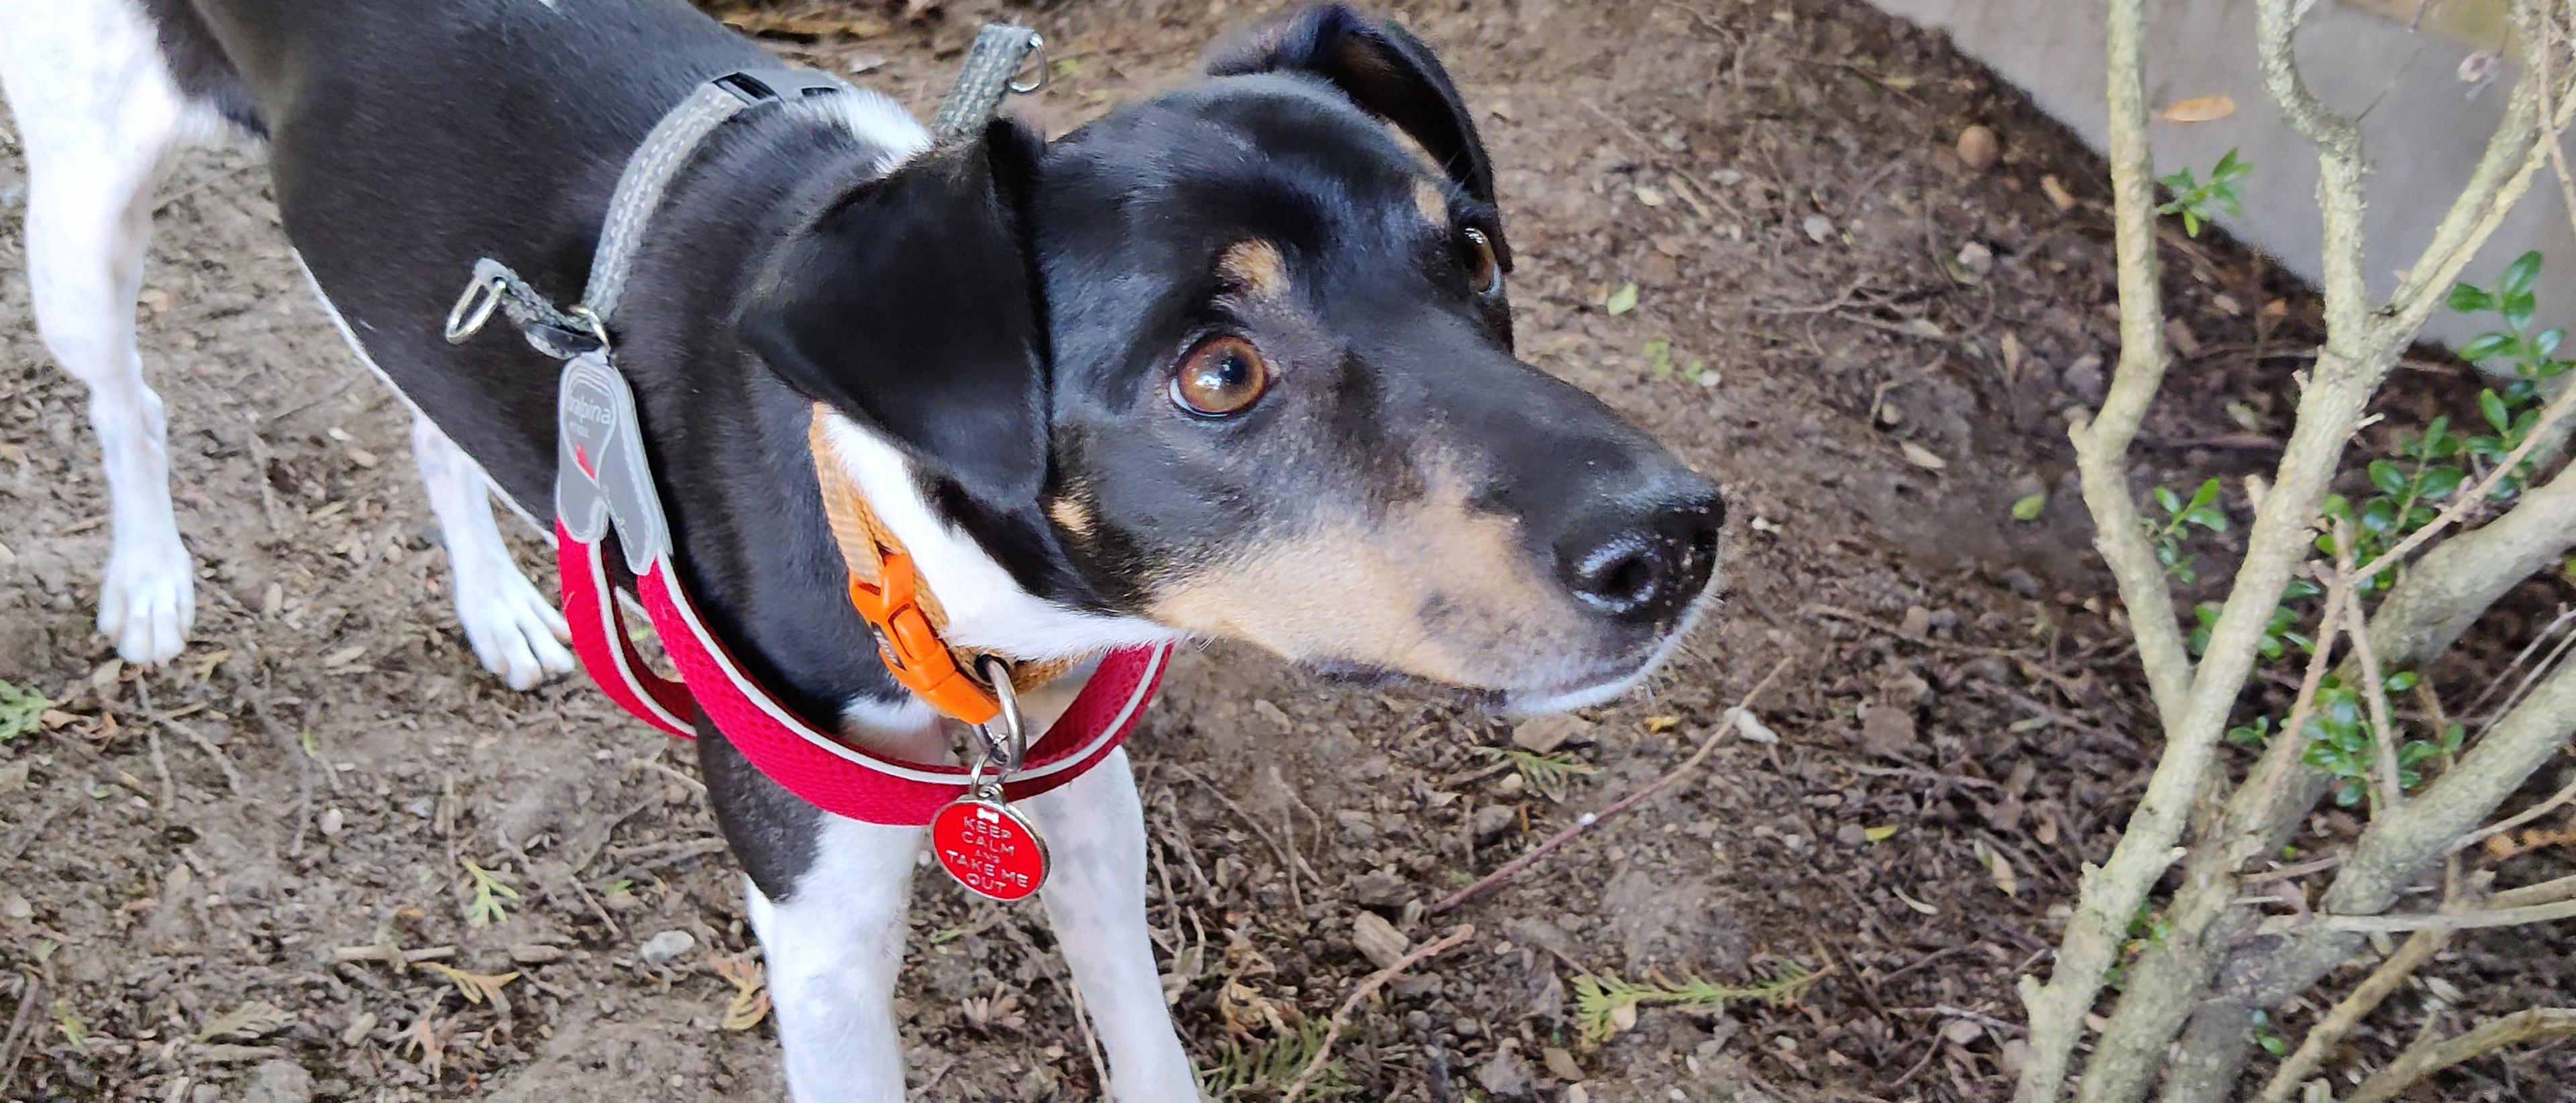Dog: (0, 0, 1748, 1103)
